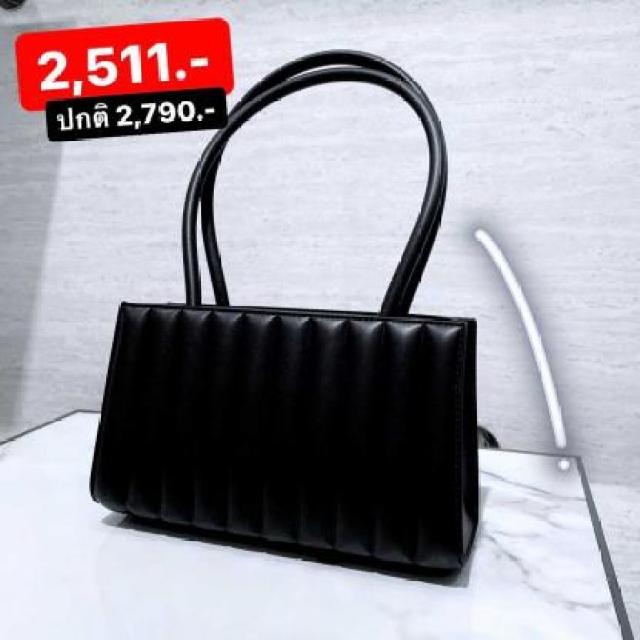Bag: (73, 43, 539, 589)
